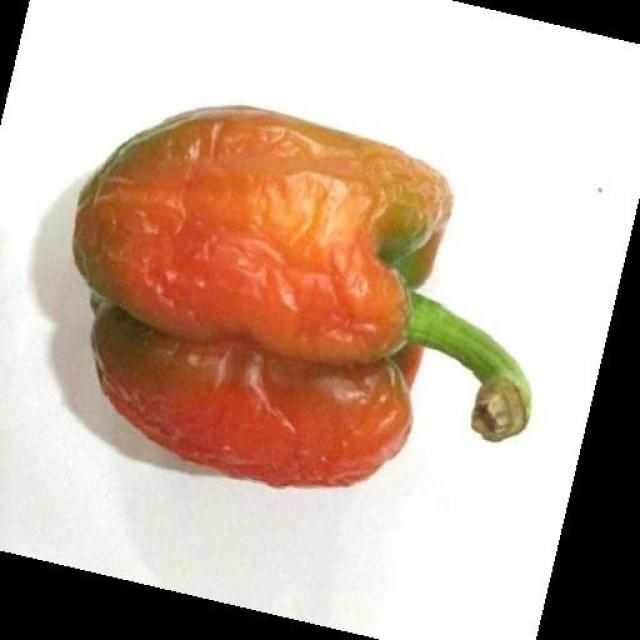Stale_Capsicum: (45, 100, 528, 525)
